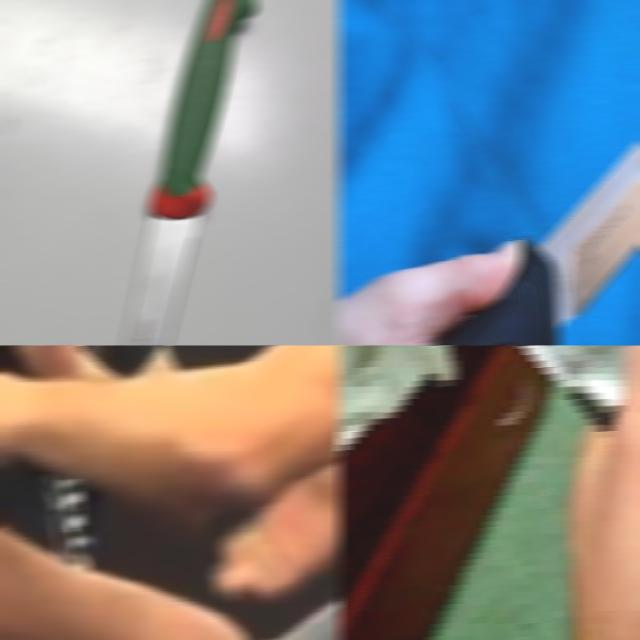Knife: (122, 0, 258, 345), (257, 588, 342, 640)
Knife_Handle: (336, 11, 640, 345), (336, 345, 640, 640), (164, 578, 342, 640)
